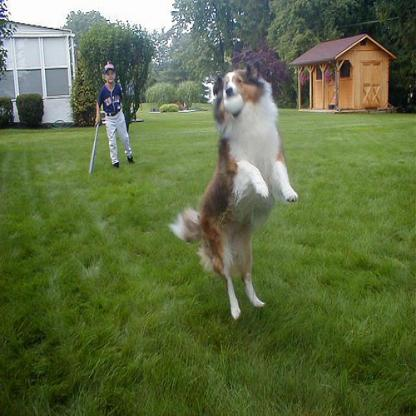Shetland_sheepdog: (164, 58, 300, 320)
